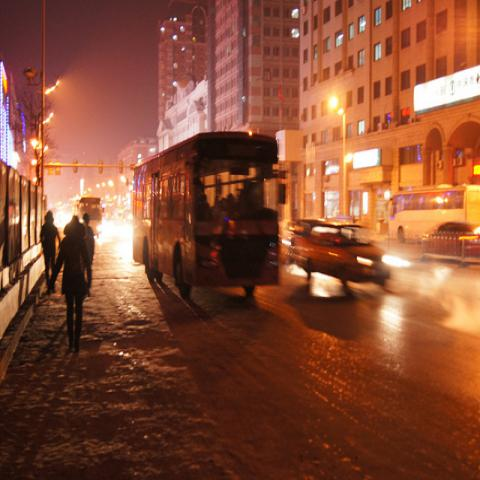bus: (133, 132, 286, 304), (387, 184, 479, 244), (73, 196, 102, 237)
car: (295, 221, 391, 286), (428, 223, 480, 243)
